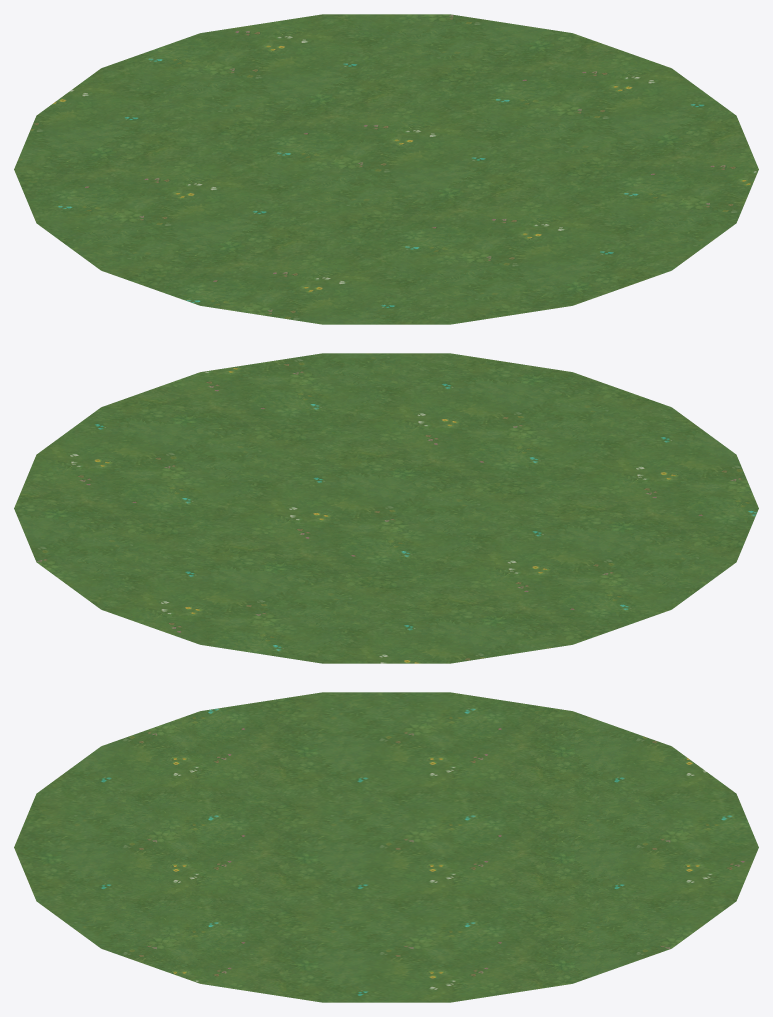
The model's file is Map_06_ground11.FBX.
The picture shows the model from 3 angles, top to bottom: view 1: azimuth 30°, elevation 25°; view 2: azimuth 150°, elevation 25°; view 3: azimuth 270°, elevation 25°; orthographic projection.
Visible parts, largest first — view 1: Map_06_ground10; view 2: Map_06_ground10; view 3: Map_06_ground10.
Part boxes in pixels (left/top/right/bottom): Map_06_ground10: left=14, top=14, right=758, bottom=324; Map_06_ground10: left=14, top=353, right=758, bottom=663; Map_06_ground10: left=14, top=692, right=758, bottom=1002.
Bounding box in the file's own units: 1375 × 6.1e-05 × 1396.
1 material, 1 textured.
